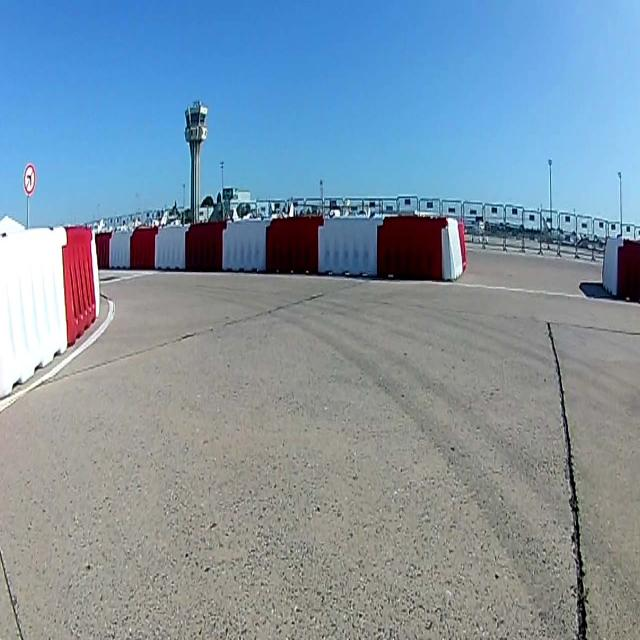soladonulmez: (24, 162, 36, 195)
